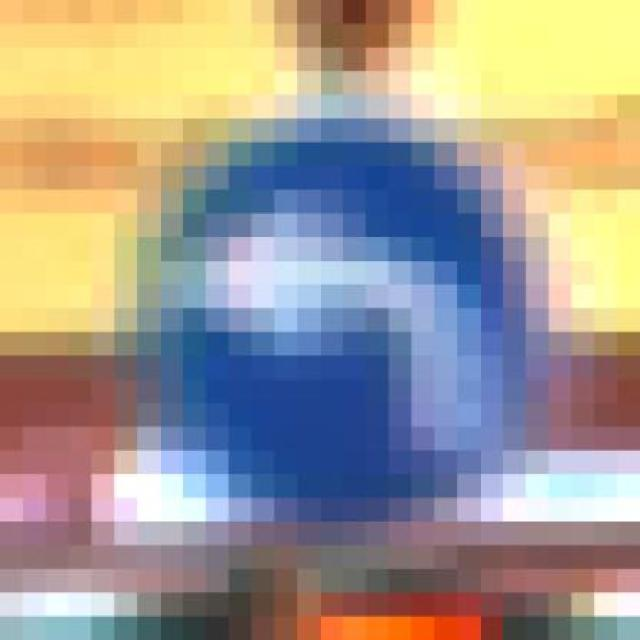Turn left ahead: (137, 72, 549, 546)
